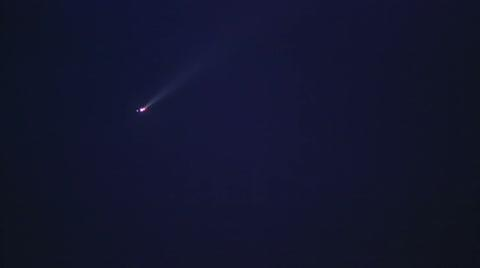Plane: (114, 72, 199, 123)
